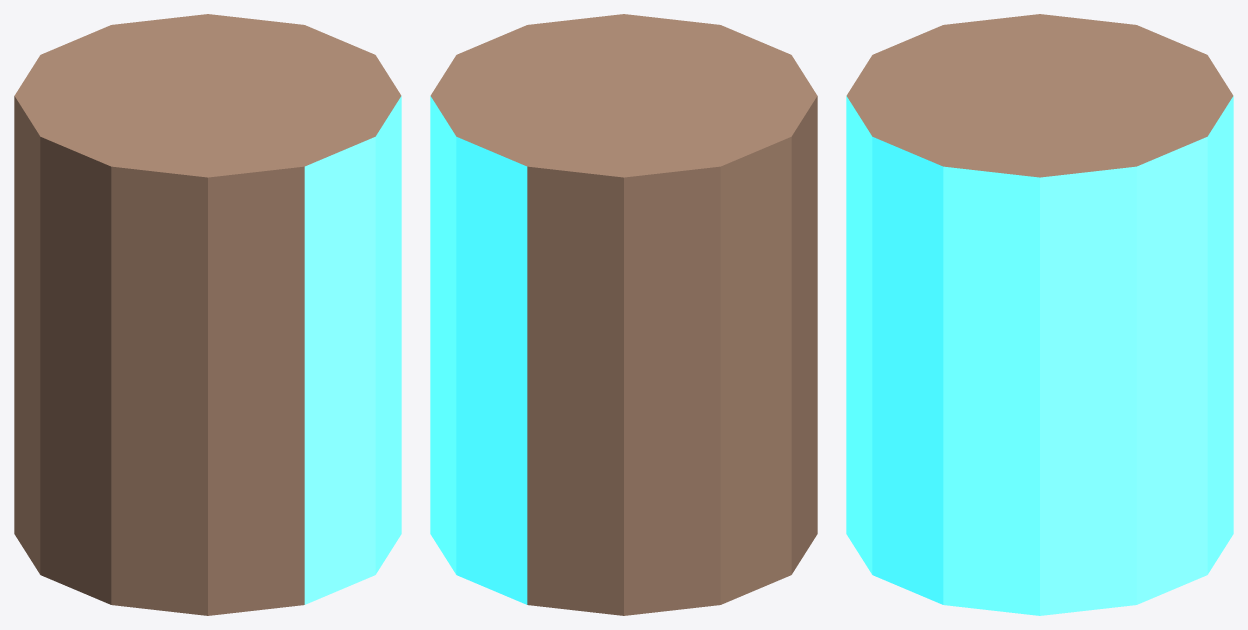
The model's file is metal_props.out_barrel.glb.
3 views of the same model, side by side, from view 1: azimuth 30°, elevation 25°; view 2: azimuth 150°, elevation 25°; view 3: azimuth 270°, elevation 25° (orthographic).
Parts seen in each view (by area): view 1: Barrel; view 2: Barrel; view 3: Barrel.
Boxes of the visible parts, x1=… form: Barrel: x1=14, y1=14, x2=401, y2=615; Barrel: x1=430, y1=14, x2=817, y2=615; Barrel: x1=846, y1=14, x2=1233, y2=615.
Size of the model in its own units: 1.6 by 2 by 1.6.
